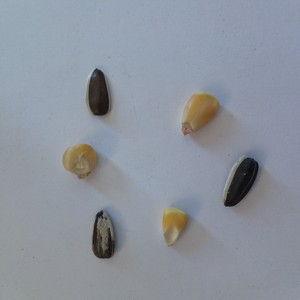girasol: (221, 153, 260, 209), (90, 206, 118, 263), (83, 65, 112, 118)
maiz: (177, 86, 222, 139), (59, 141, 102, 181), (155, 206, 192, 249)
